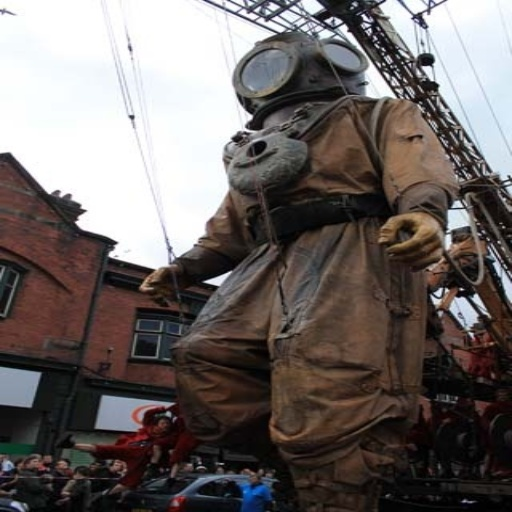hand: (374, 200, 459, 268), (136, 264, 190, 310)
